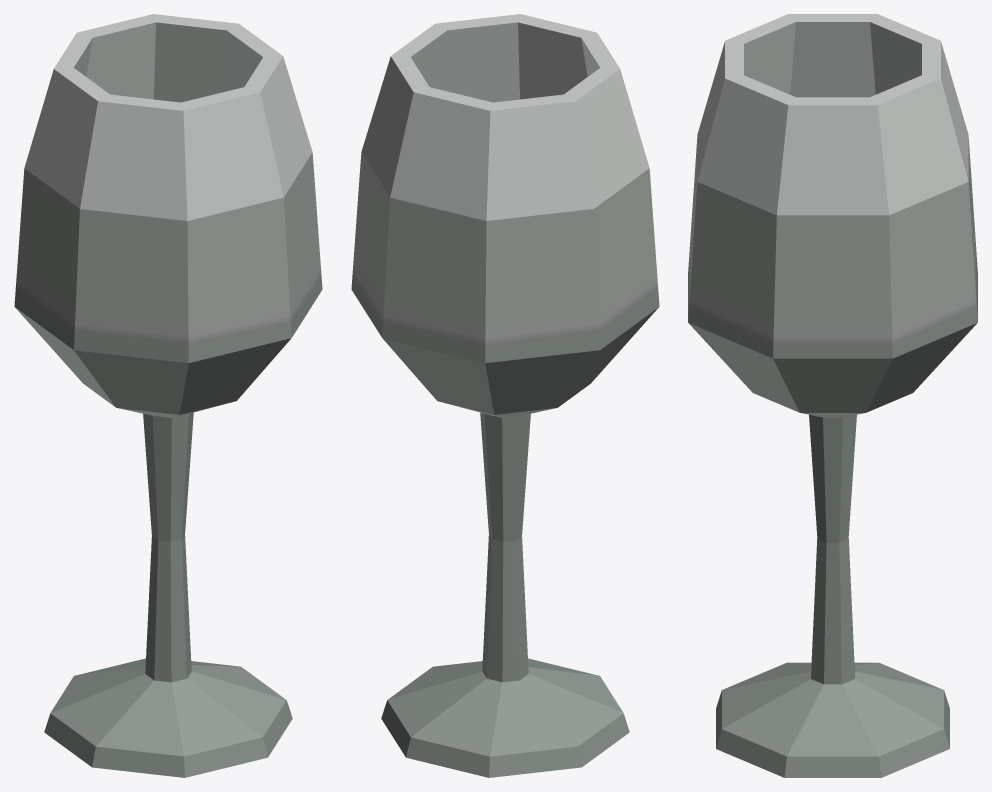
Rendered from SM_Prop_Bar_Glass_Empty_10.obj.
3 renders of one model, left to right at view 1: azimuth 30°, elevation 25°; view 2: azimuth 150°, elevation 25°; view 3: azimuth 270°, elevation 25°, orthographic.
Visible parts, largest first — view 1: SM_Prop_Bar_Glass_Empty_10_0; view 2: SM_Prop_Bar_Glass_Empty_10_0; view 3: SM_Prop_Bar_Glass_Empty_10_0.
Boxes of the visible parts, left/top/right/bottom form: SM_Prop_Bar_Glass_Empty_10_0: left=14, top=14, right=322, bottom=777; SM_Prop_Bar_Glass_Empty_10_0: left=351, top=14, right=659, bottom=777; SM_Prop_Bar_Glass_Empty_10_0: left=688, top=14, right=977, bottom=777.
Bounding box in the file's own units: 0.1064 × 0.2711 × 0.1064.
Materials: 1 (1 with a texture image).
